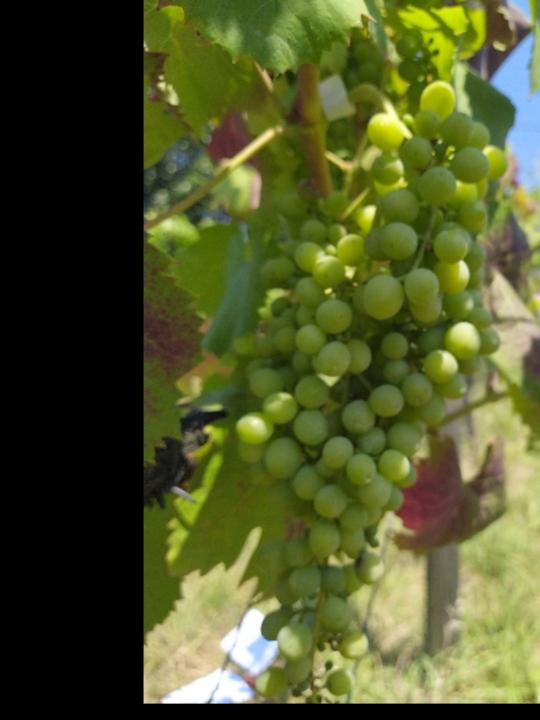grape: (233, 72, 513, 701)
